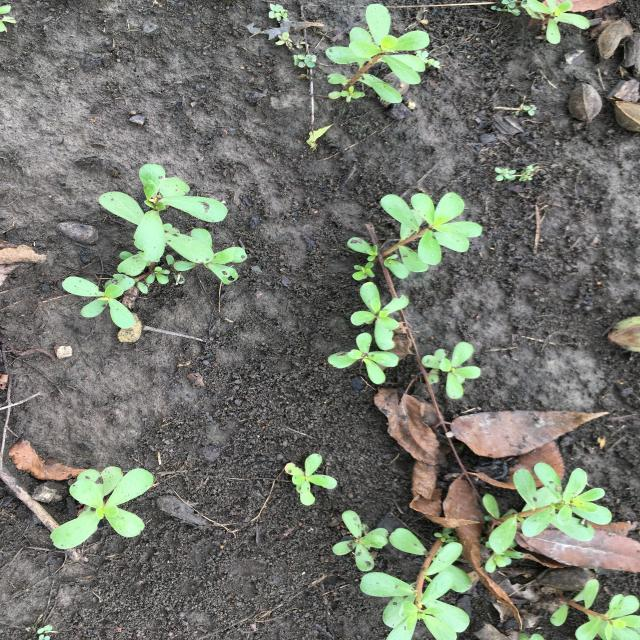Purslane: (62, 163, 247, 329), (479, 462, 612, 574), (360, 528, 473, 640), (347, 192, 483, 281), (325, 3, 430, 102), (50, 466, 154, 549), (549, 579, 640, 640), (350, 282, 410, 350), (327, 332, 400, 384), (421, 341, 481, 399), (332, 510, 388, 571), (526, 0, 590, 44), (285, 454, 337, 506)
